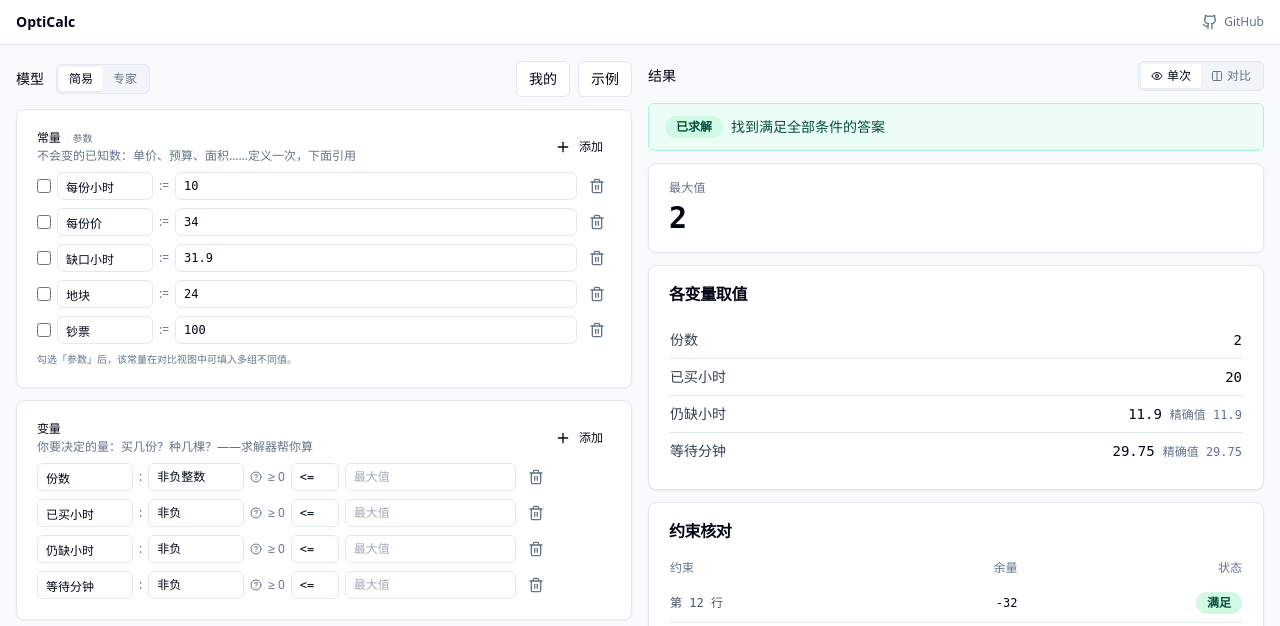
App 渲染验收 › 模式持久化到 localStorage
Click the radio button labelled "专家". click: (125, 79)
box: left=103, top=67, right=147, bottom=91
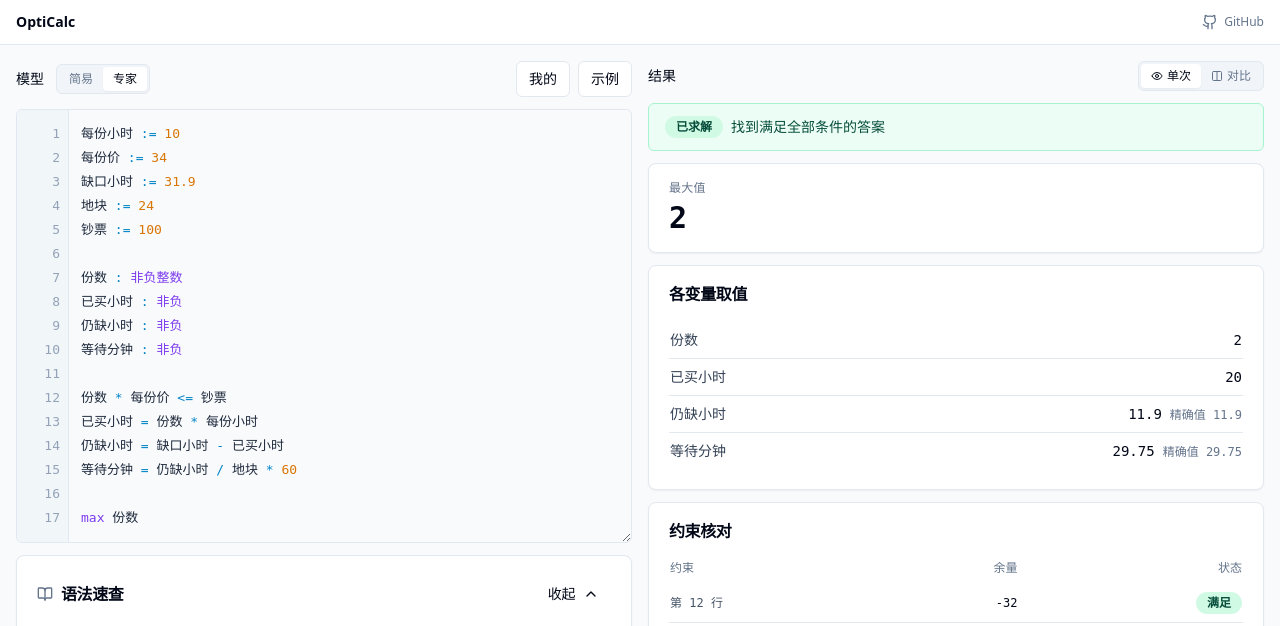
Expected: the text box named "模型编辑器" is shown, left=69, top=110, right=631, bottom=542
